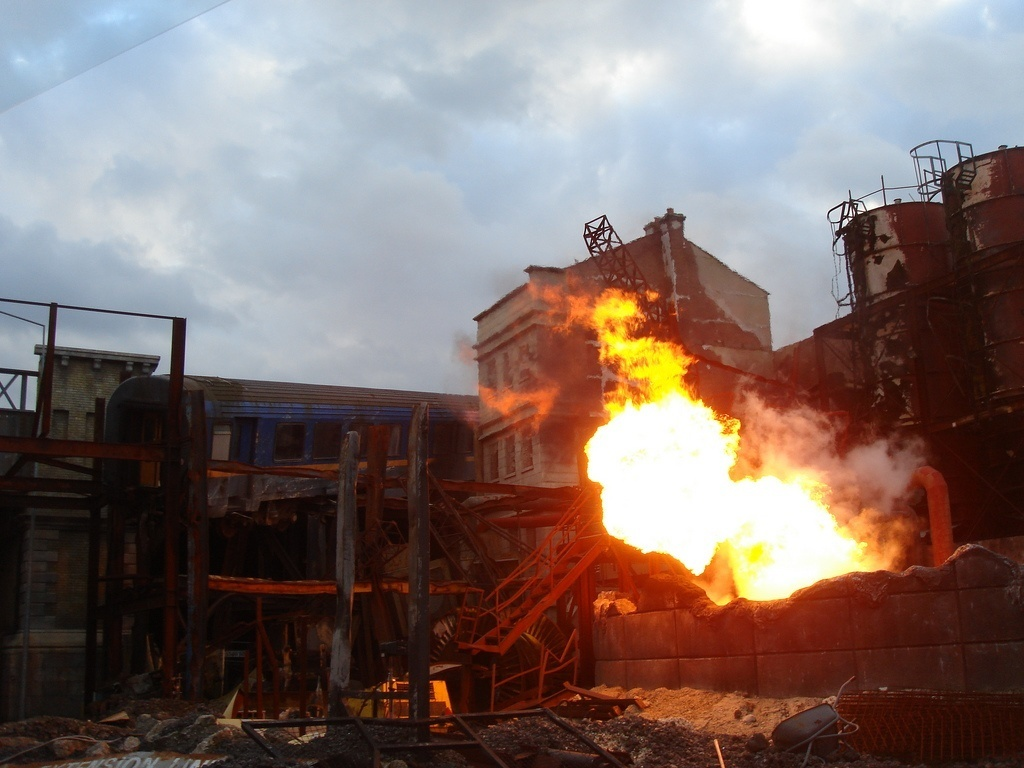fire: (571, 294, 868, 597)
